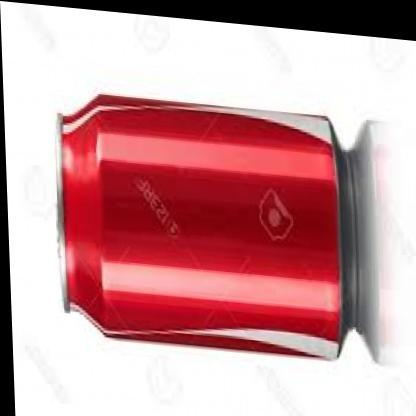trash: (60, 95, 345, 358)
